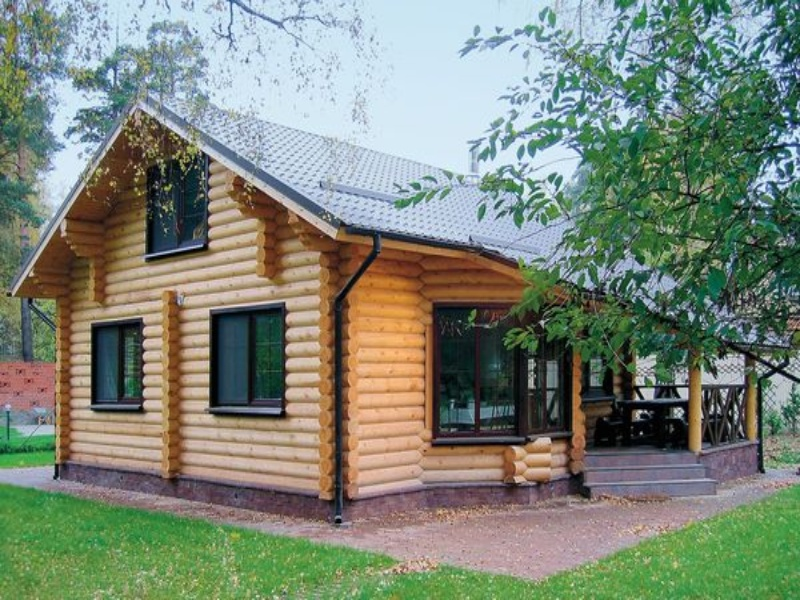window: (425, 292, 576, 454), (209, 297, 293, 420), (137, 154, 213, 253), (83, 310, 147, 415)
